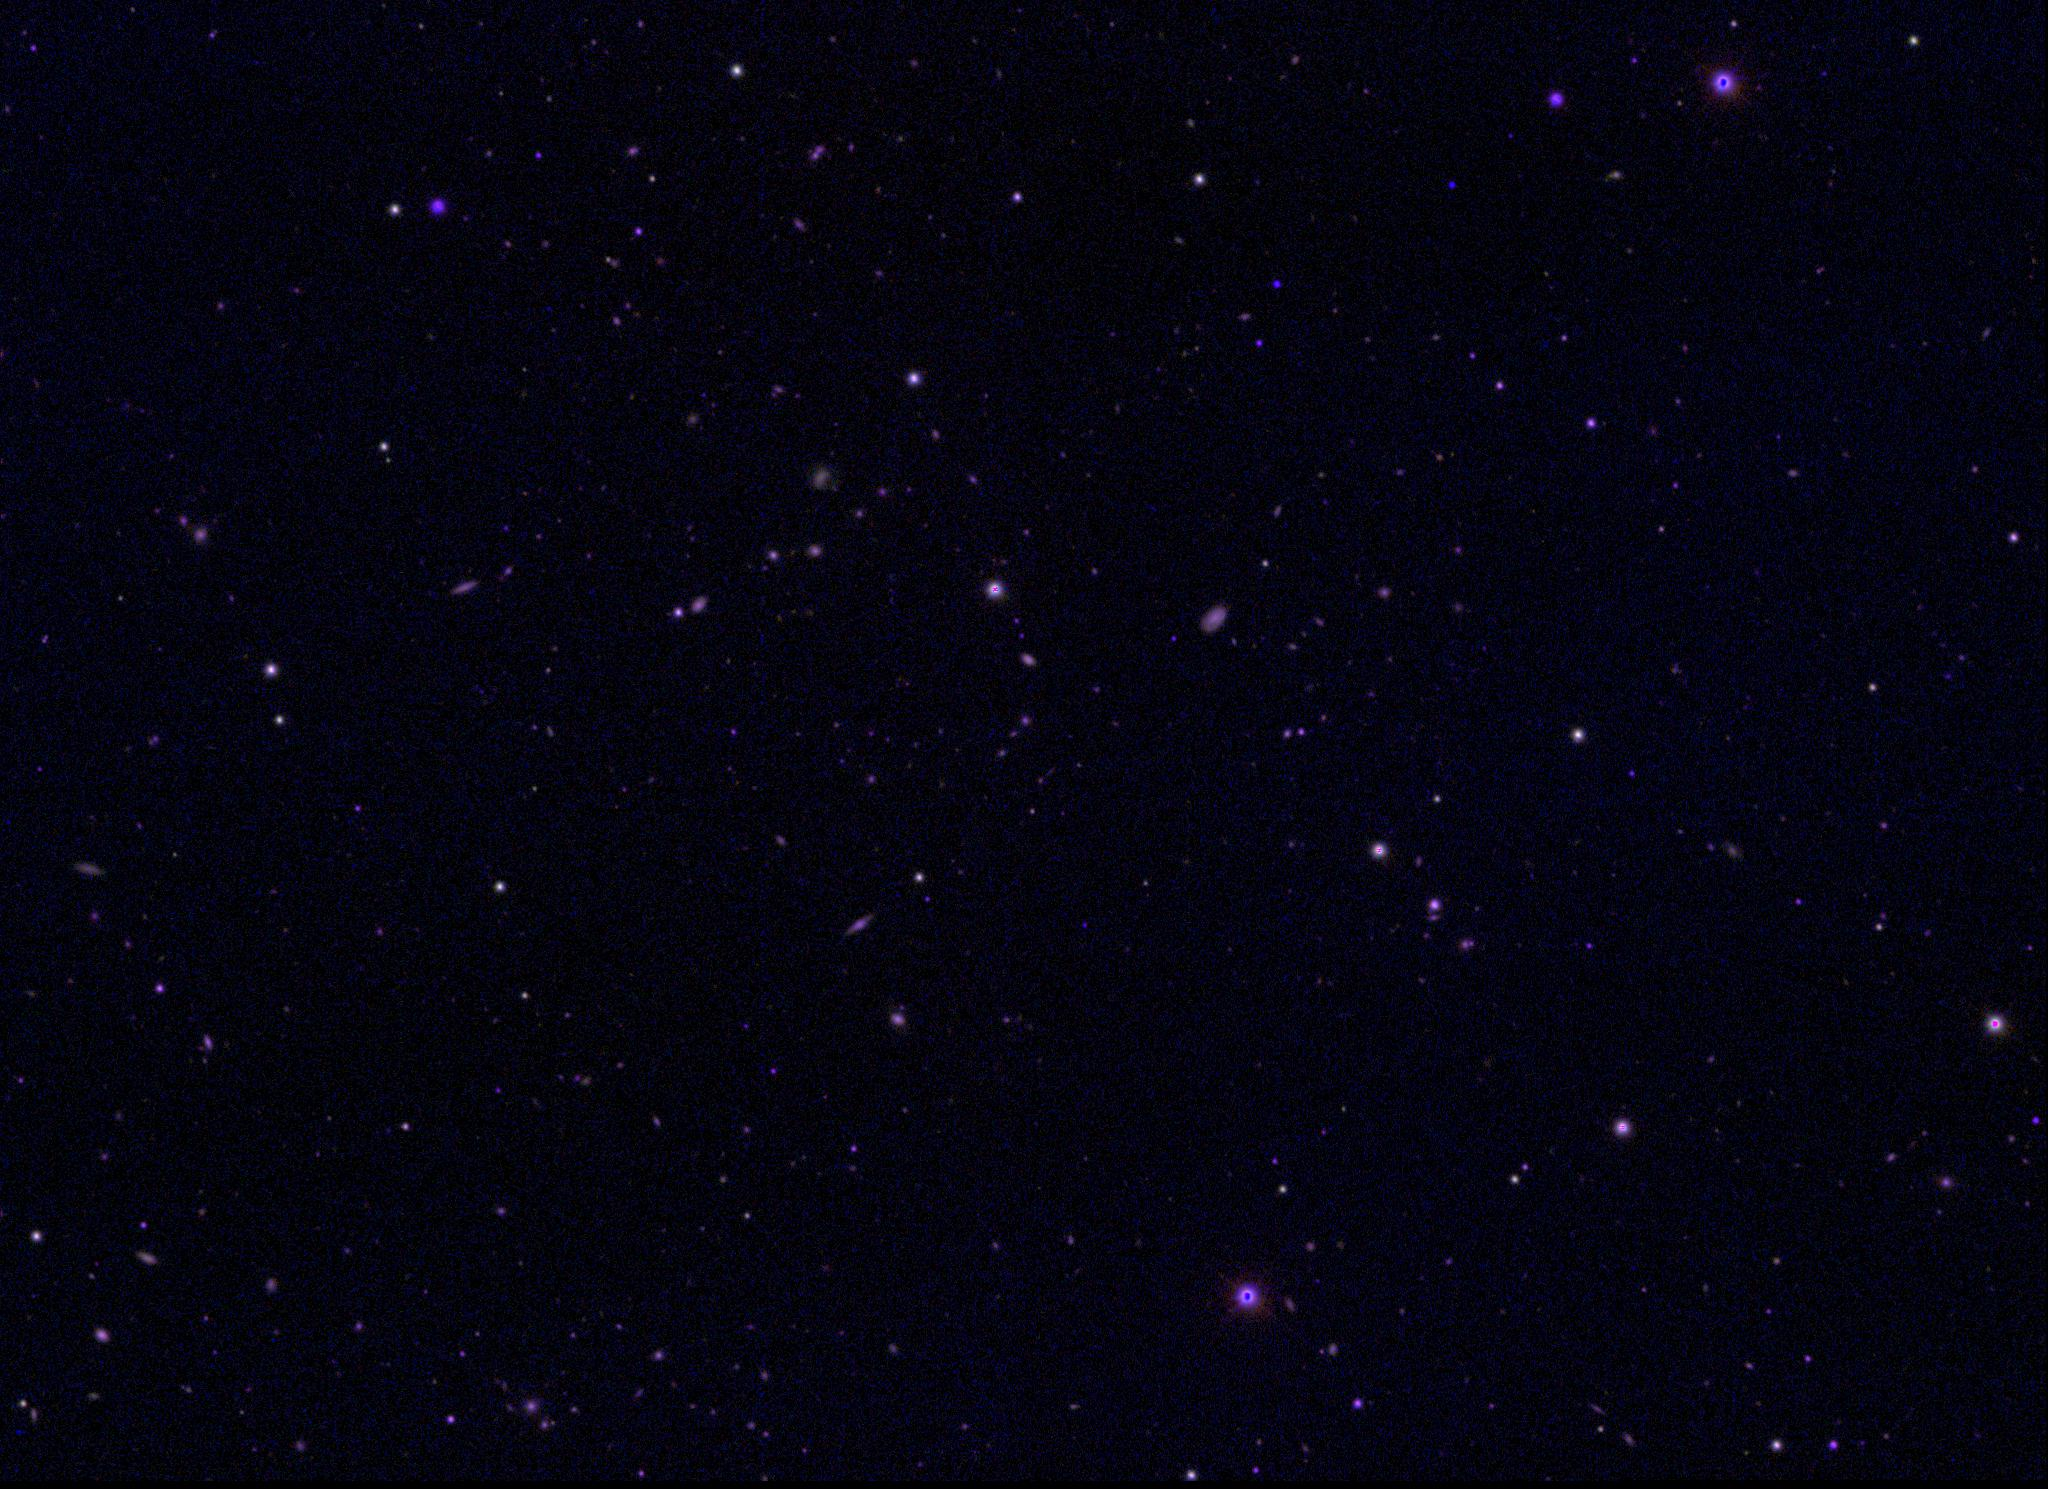L: (1444, 177, 1458, 189)
